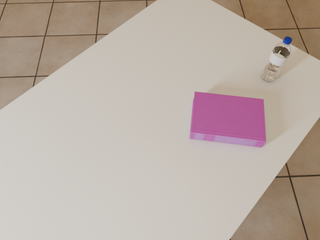book: (190, 92, 266, 147)
bottle: (262, 37, 292, 81)
